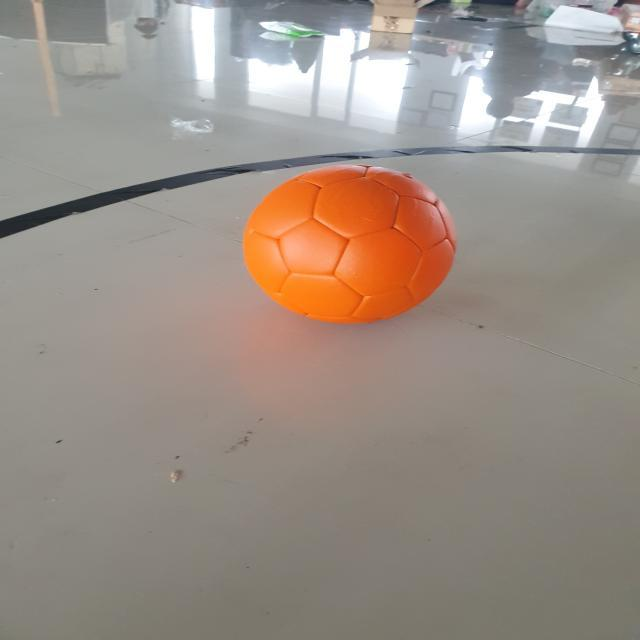bola: (238, 159, 466, 332)
